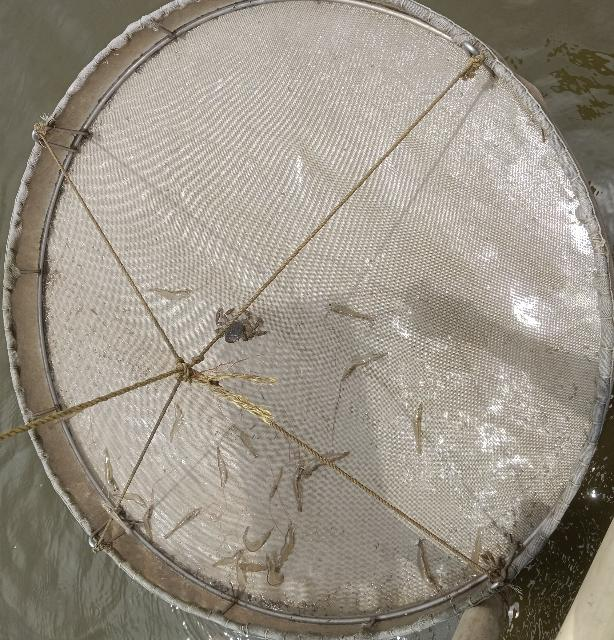shrimp: (454, 525, 483, 585), (339, 352, 389, 382), (323, 301, 380, 327), (417, 538, 443, 593), (162, 507, 203, 539), (302, 452, 350, 478), (230, 427, 258, 458), (291, 463, 308, 512), (243, 526, 276, 551), (278, 525, 296, 570), (103, 447, 120, 494), (169, 402, 184, 443), (412, 403, 424, 454), (147, 288, 193, 301), (213, 549, 246, 567), (113, 493, 147, 509), (268, 468, 284, 502), (217, 447, 228, 490), (143, 504, 155, 541), (235, 561, 246, 599)
